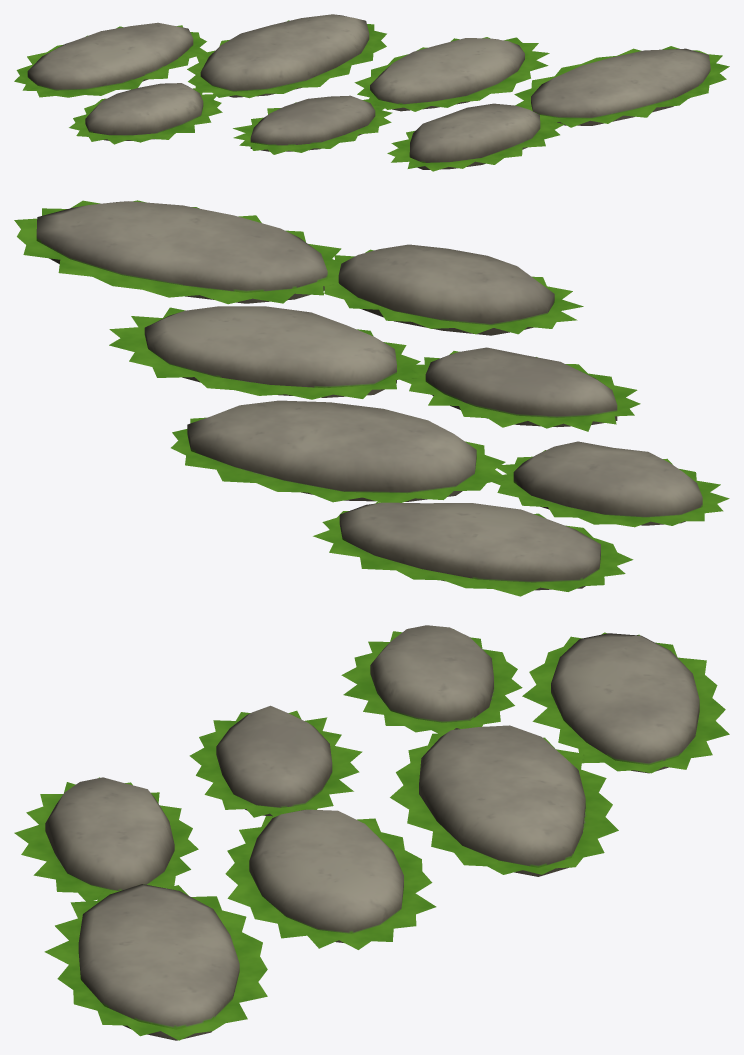
File: stepping_stones_b.glb
The picture shows the model from 3 angles, top to bottom: view 1: azimuth 30°, elevation 25°; view 2: azimuth 150°, elevation 25°; view 3: azimuth 270°, elevation 25°; orthographic projection. The views are drawn at different scales.
Visible parts, largest first — view 1: stepping_stones_b; view 2: stepping_stones_b; view 3: stepping_stones_b.
Boxes of the visible parts, left/top/right/bottom form: stepping_stones_b: left=14, top=14, right=729, bottom=171; stepping_stones_b: left=14, top=200, right=729, bottom=596; stepping_stones_b: left=14, top=625, right=729, bottom=1040.
Bounding box in the file's own units: 2.66 × 0.116 × 1.93.
Materials: 1 (1 with a texture image).
